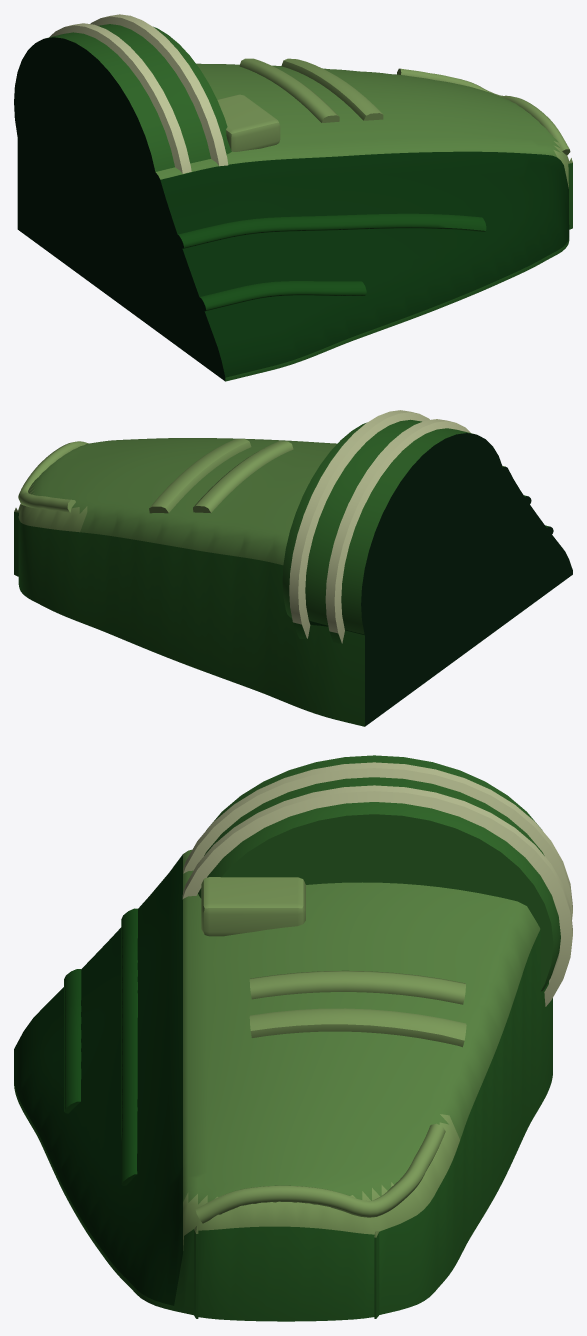
File: green_skiff_nose.glb
3 views of the same model, one above another, from view 1: azimuth 30°, elevation 25°; view 2: azimuth 150°, elevation 25°; view 3: azimuth 270°, elevation 25° (orthographic). The views are drawn at different scales.
Parts seen in each view (by area): view 1: bow.001, collar.001, slat0.001, collar_ring2.001, collar_ring1.001, slat1.001, hatch.001, rib1.001, rib0.001, nose_rim.001; view 2: bow.001, collar.001, collar_ring2.001, collar_ring1.001, rib1.001, rib0.001, nose_rim.001; view 3: bow.001, collar.001, collar_ring2.001, collar_ring1.001, hatch.001, rib1.001, nose_rim.001, rib0.001, slat0.001, slat1.001.
Part boxes in pixels (x1=…): bow.001: x1=17, y1=63, x2=572, y2=381; collar.001: x1=14, y1=24, x2=231, y2=272; slat0.001: x1=176, y1=213, x2=486, y2=248; collar_ring2.001: x1=90, y1=14, x2=228, y2=166; collar_ring1.001: x1=49, y1=23, x2=191, y2=173; slat1.001: x1=199, y1=281, x2=366, y2=311; hatch.001: x1=217, y1=94, x2=280, y2=151; rib1.001: x1=281, y1=58, x2=383, y2=120; rib0.001: x1=239, y1=58, x2=339, y2=122; nose_rim.001: x1=396, y1=68, x2=570, y2=155; bow.001: x1=14, y1=438, x2=572, y2=726; collar.001: x1=282, y1=419, x2=506, y2=669; collar_ring2.001: x1=289, y1=410, x2=429, y2=639; collar_ring1.001: x1=325, y1=419, x2=470, y2=643; rib1.001: x1=149, y1=439, x2=251, y2=513; rib0.001: x1=193, y1=441, x2=293, y2=512; nose_rim.001: x1=18, y1=441, x2=88, y2=512; bow.001: x1=14, y1=849, x2=552, y2=1321; collar.001: x1=198, y1=755, x2=560, y2=991; collar_ring2.001: x1=182, y1=785, x2=572, y2=1006; collar_ring1.001: x1=183, y1=762, x2=572, y2=919; hatch.001: x1=201, y1=877, x2=305, y2=936; rib1.001: x1=249, y1=1008, x2=466, y2=1047; nose_rim.001: x1=195, y1=1123, x2=445, y2=1223; rib0.001: x1=249, y1=970, x2=465, y2=1004; slat0.001: x1=121, y1=908, x2=137, y2=1185; slat1.001: x1=64, y1=969, x2=81, y2=1113.
Size of the model in its own units: 22.65 by 12.09 by 20.01.
